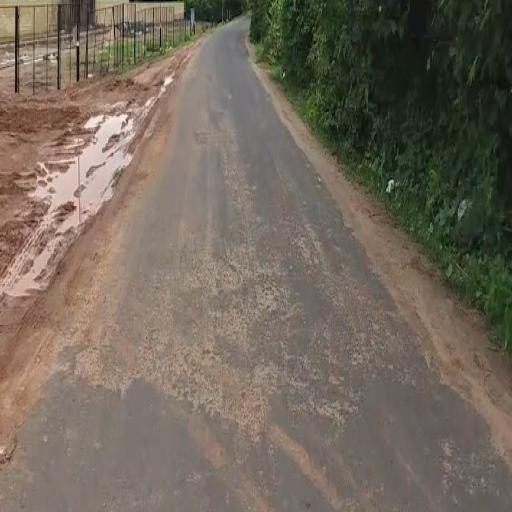ravelling: (62, 204, 380, 455)
